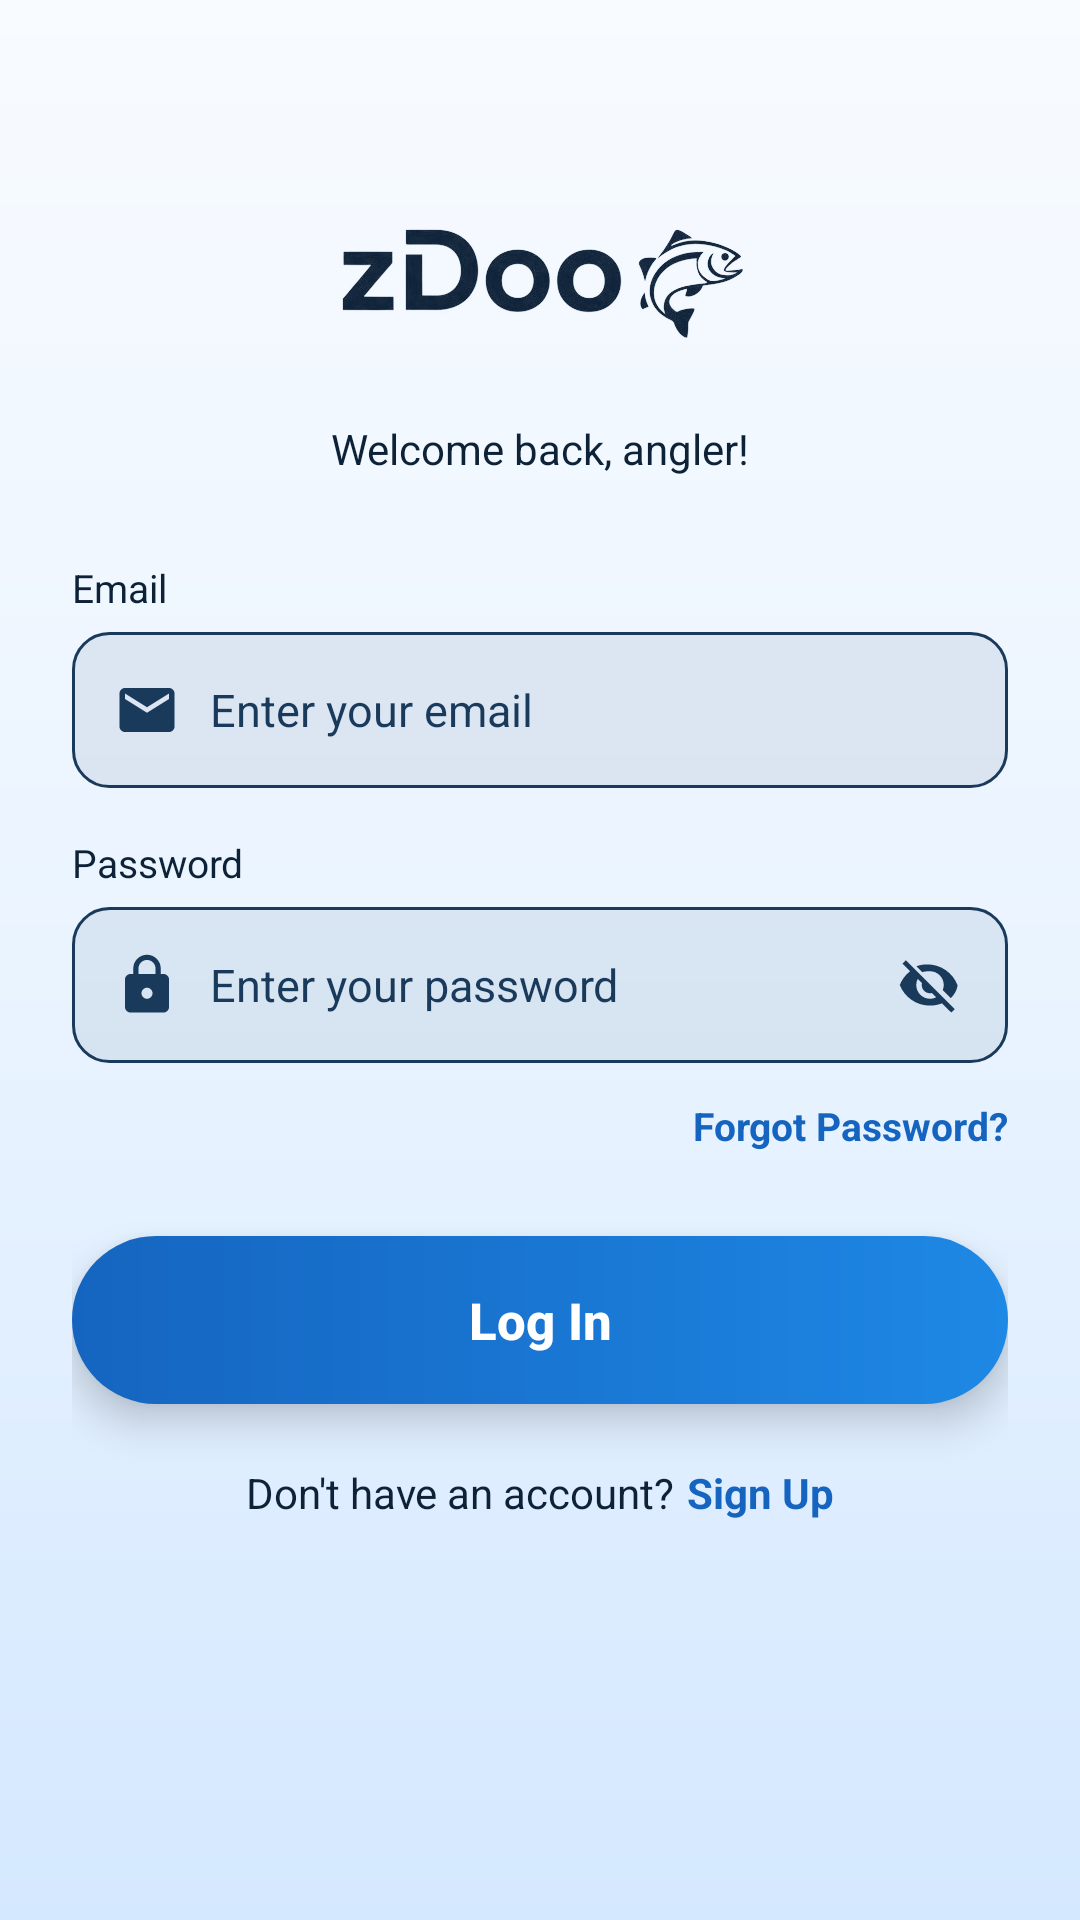

Screen size 1080*1920. Icon name, then its center in pixels as point (x, y):
lock: point (147, 983)
